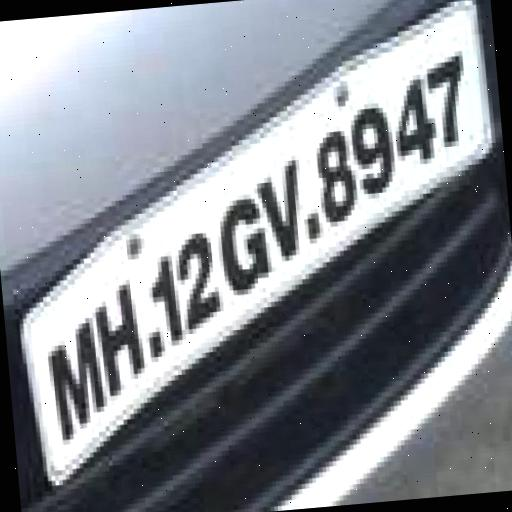number plate: (7, 52, 512, 446)
